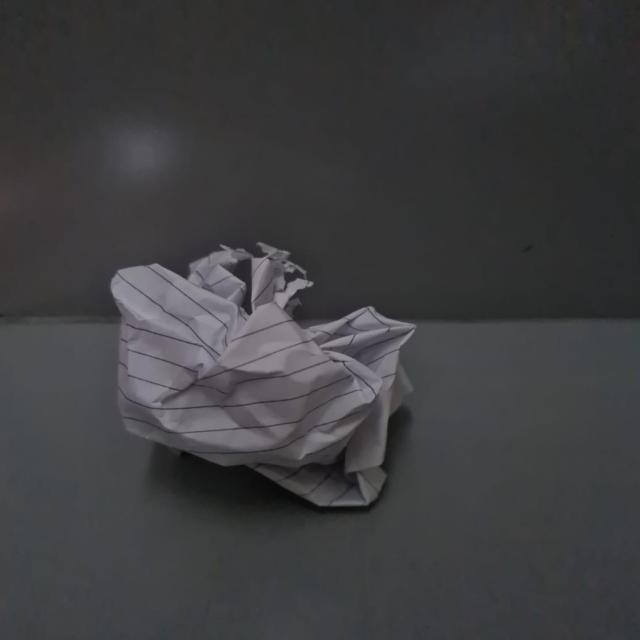kertas: (98, 245, 448, 515)
